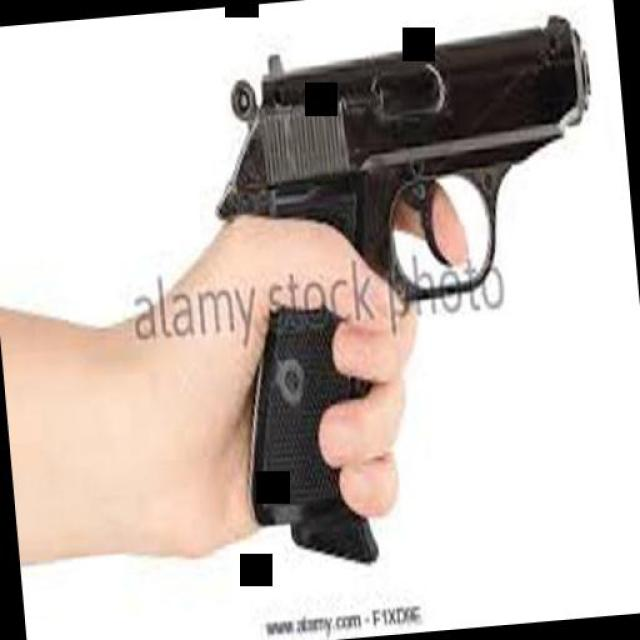gun: (202, 8, 628, 552)
